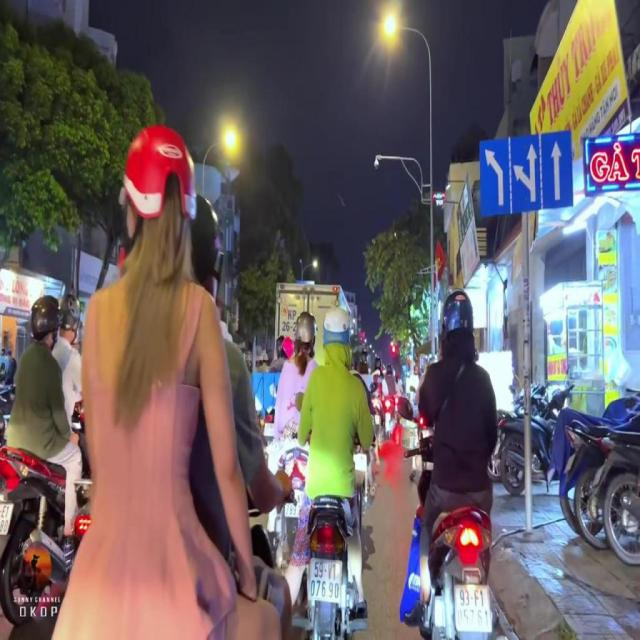huong_di_tren_moi_lan_duong_theo_vach_ke_duong: (480, 132, 574, 216)
